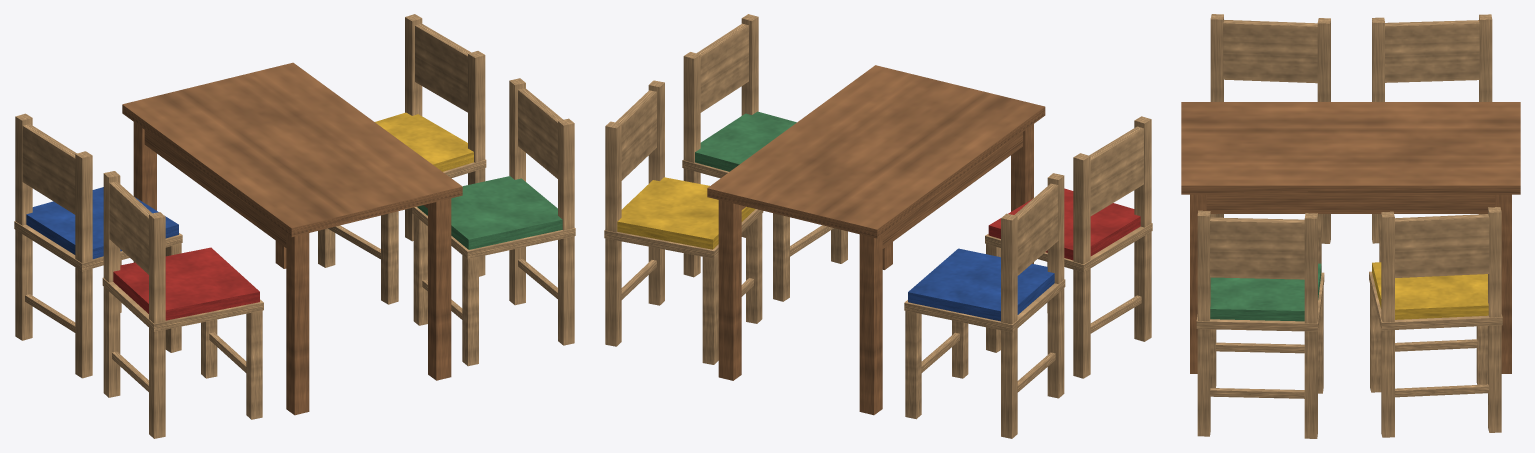
File: SM_Molo_SetLegno.fbx
3 views of the same model, side by side, from view 1: azimuth 30°, elevation 25°; view 2: azimuth 150°, elevation 25°; view 3: azimuth 270°, elevation 25° (orthographic).
Visible parts, largest first — view 1: SM_Molo_SetLegno; view 2: SM_Molo_SetLegno; view 3: SM_Molo_SetLegno.
Part boxes in pixels (x1,y1,x2,y2): SM_Molo_SetLegno: (14, 14, 575, 438); SM_Molo_SetLegno: (604, 14, 1152, 438); SM_Molo_SetLegno: (1181, 14, 1520, 438).
Size of what is drawn, in the model's own units: 172 by 120 by 86.
Materials: 1 (1 with a texture image).
